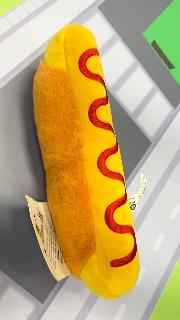hotdog: (32, 24, 140, 300)
